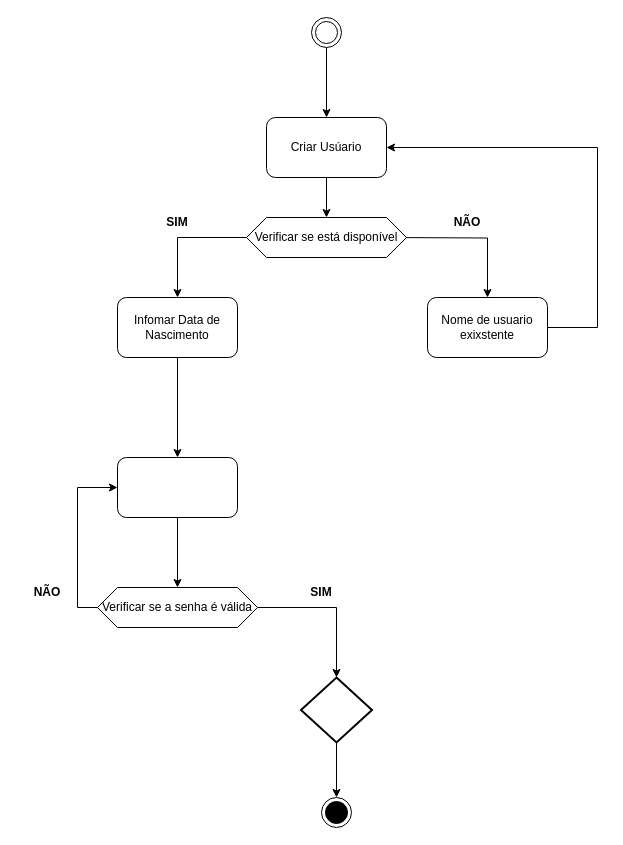
The diagram is 623 pixels wide and 845 high, and some of its shapes have lost their labels. The shapes that lost their labels are listed below. From the top down, each one's box as (x1, y1, x2, y2) in pixels, then its label:
(116, 456, 238, 518): Criar Senha
(300, 676, 372, 743): Cadastro realizado
